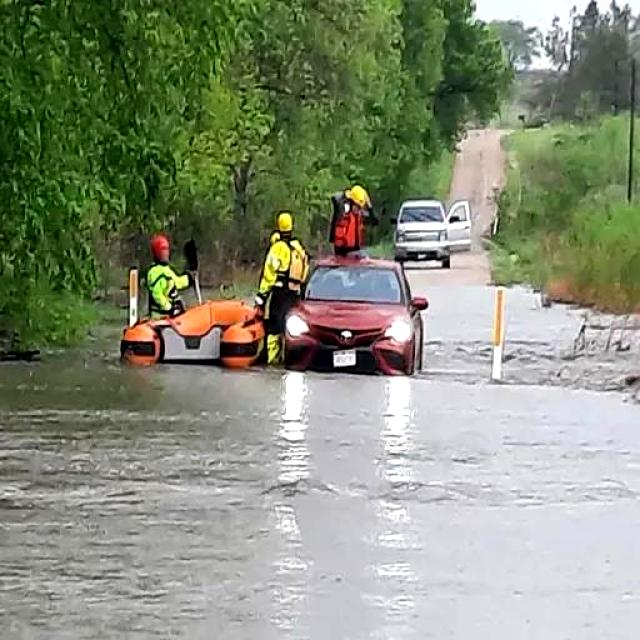rescuer: (254, 210, 306, 380), (138, 228, 190, 332), (321, 179, 375, 263)
